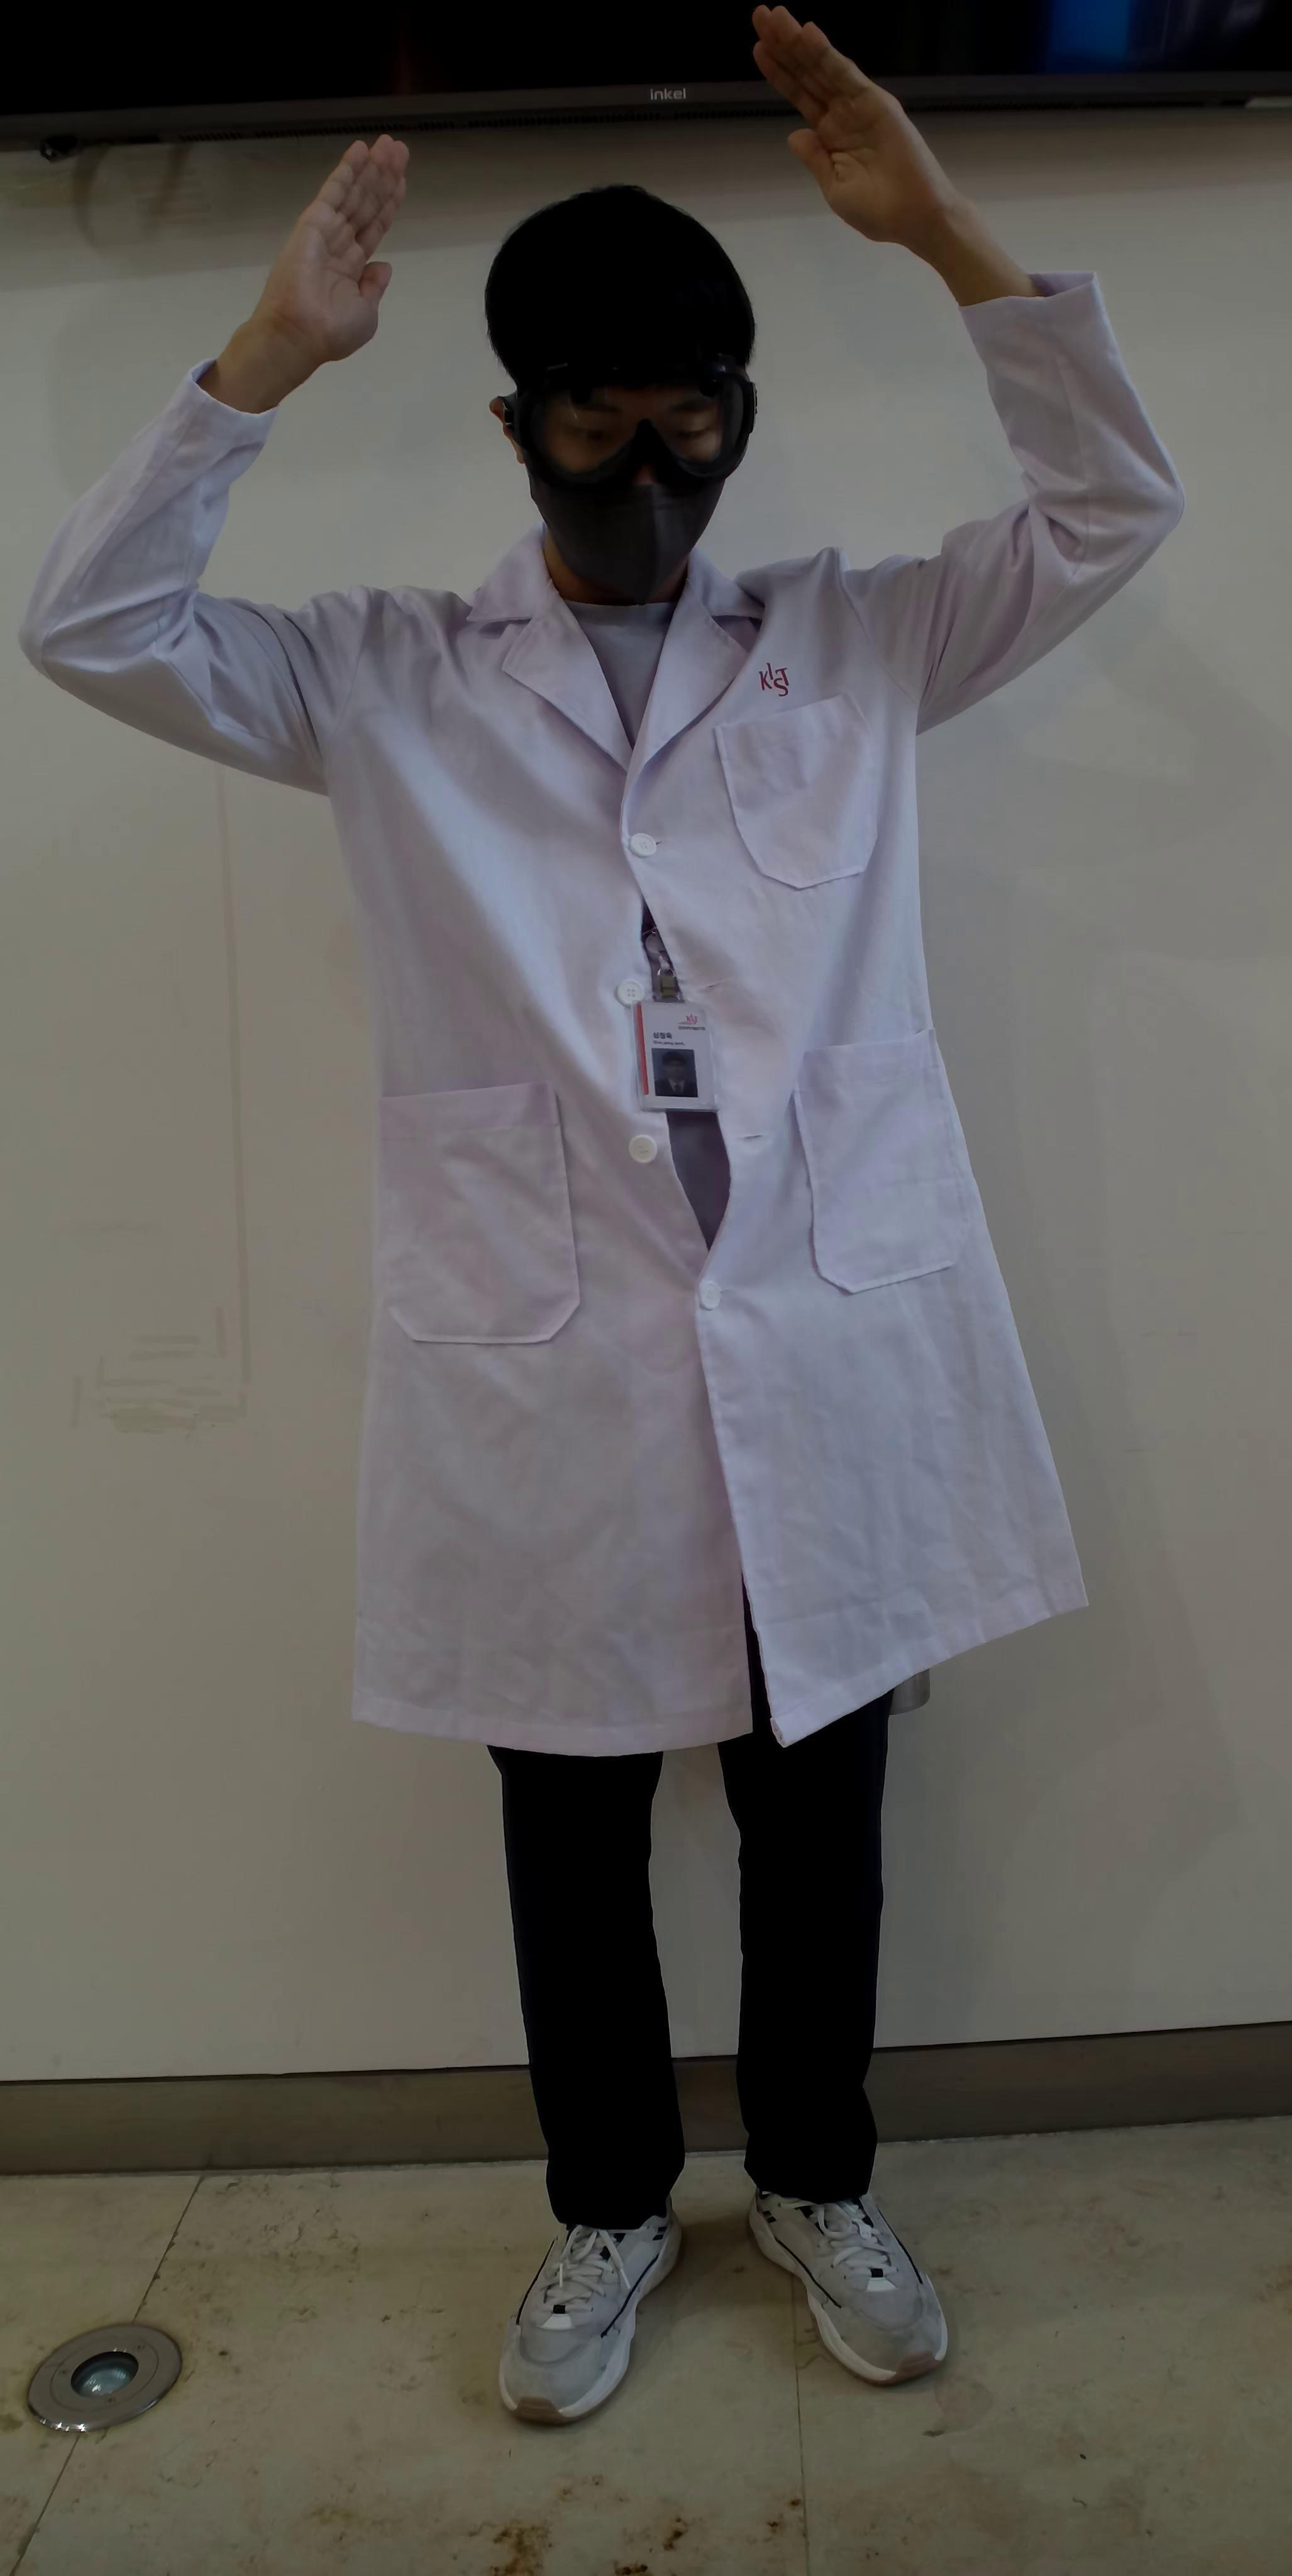lab_coat: (209, 562, 1111, 1707)
